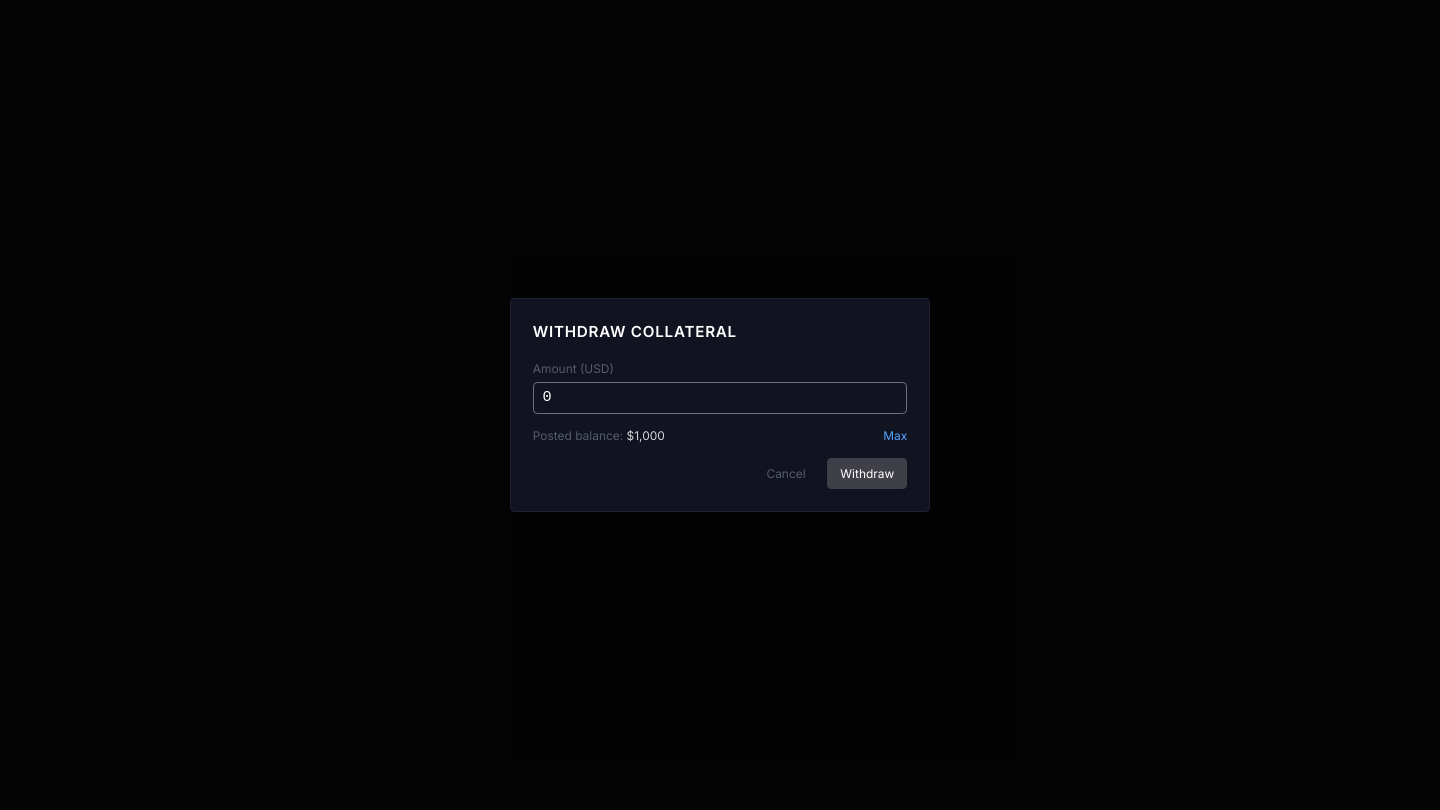
Test case: CsaAmountModal — submit + validation › withdraw > max shows error
Replace the text in the field labelled "Amount (USD)" with "5000". click: (720, 398)
box: x1=533 y1=382 x2=907 y2=414
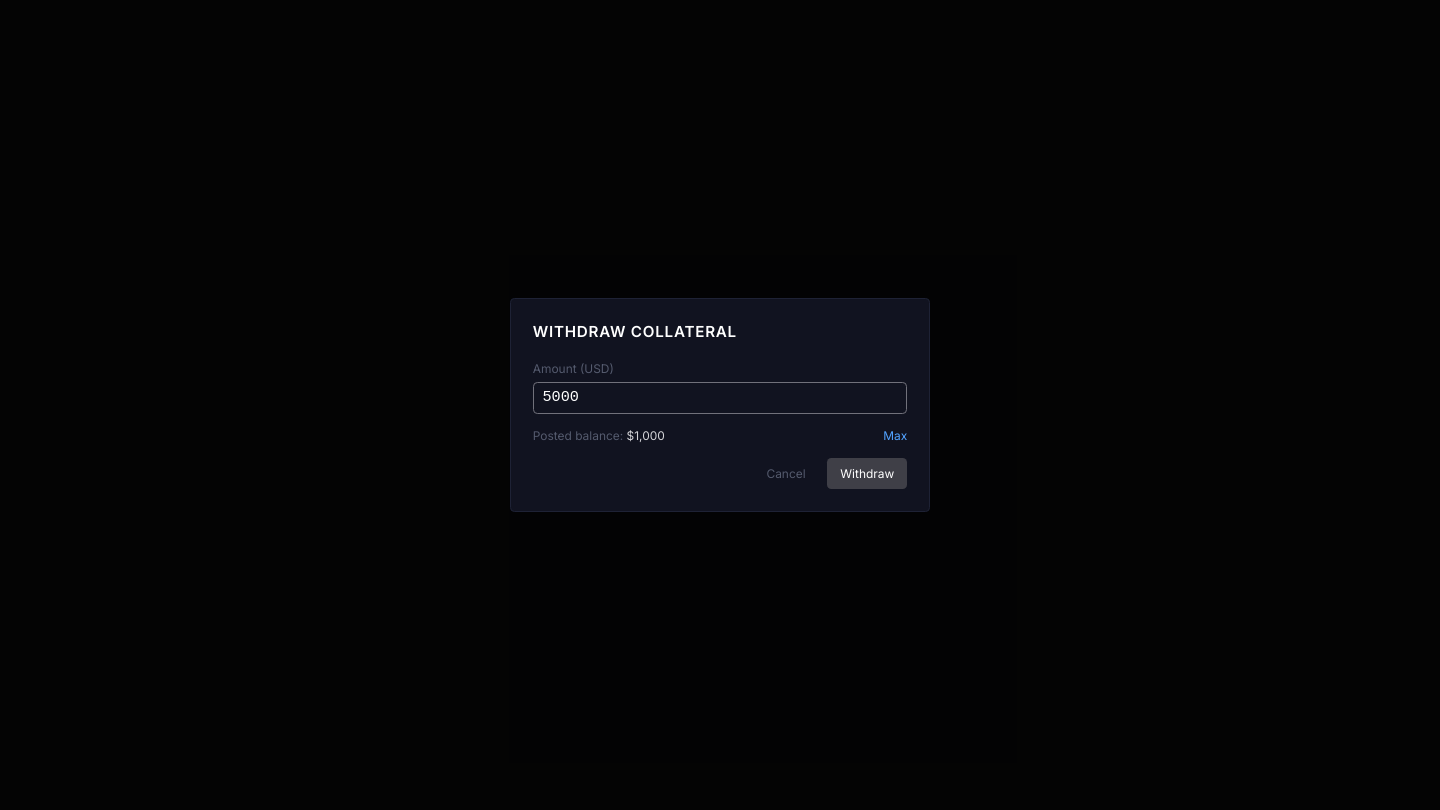
Click the button "Withdraw". click: (867, 474)
box: x1=827 y1=458 x2=907 y2=489
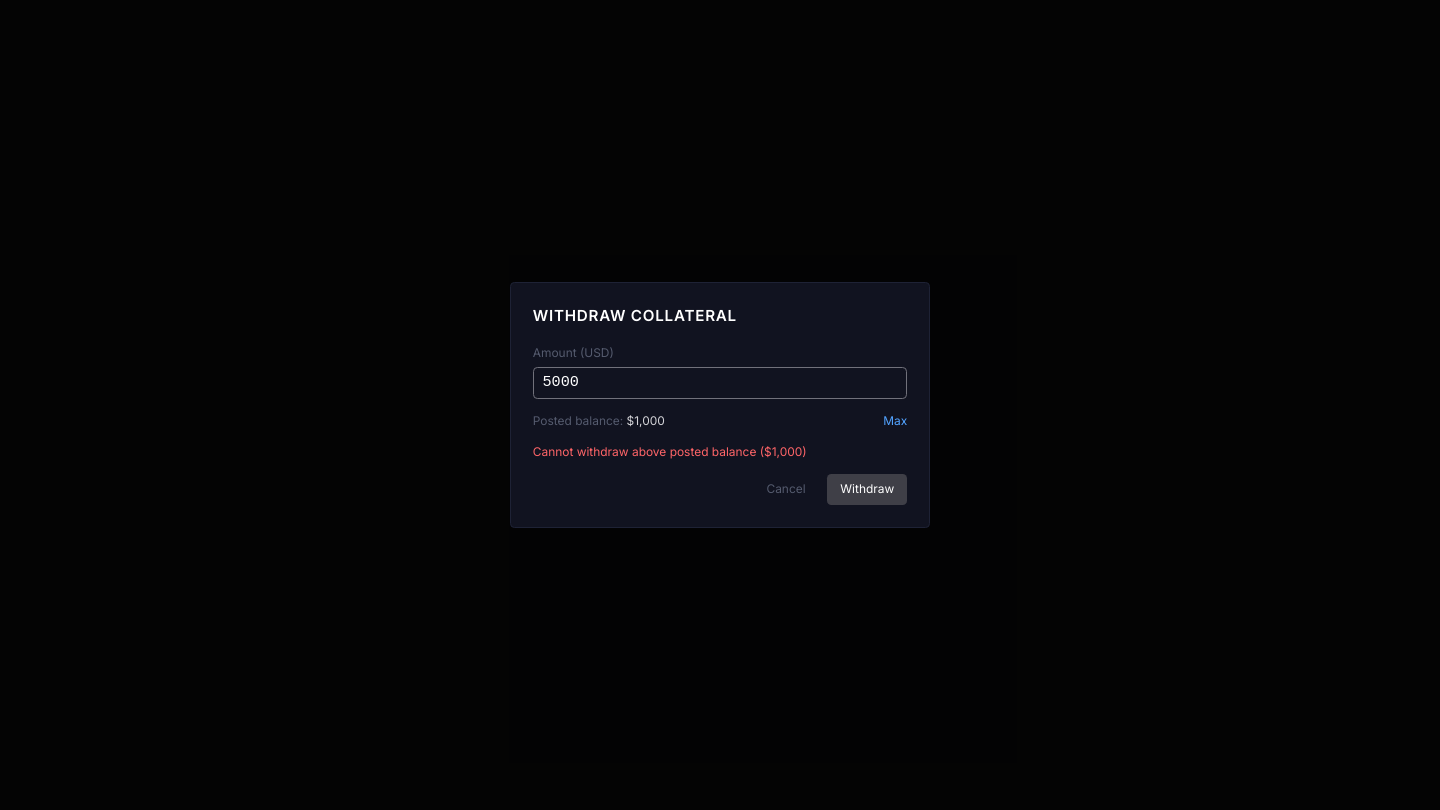
Now the text "above posted balance" is shown, box x1=533 y1=444 x2=807 y2=459
